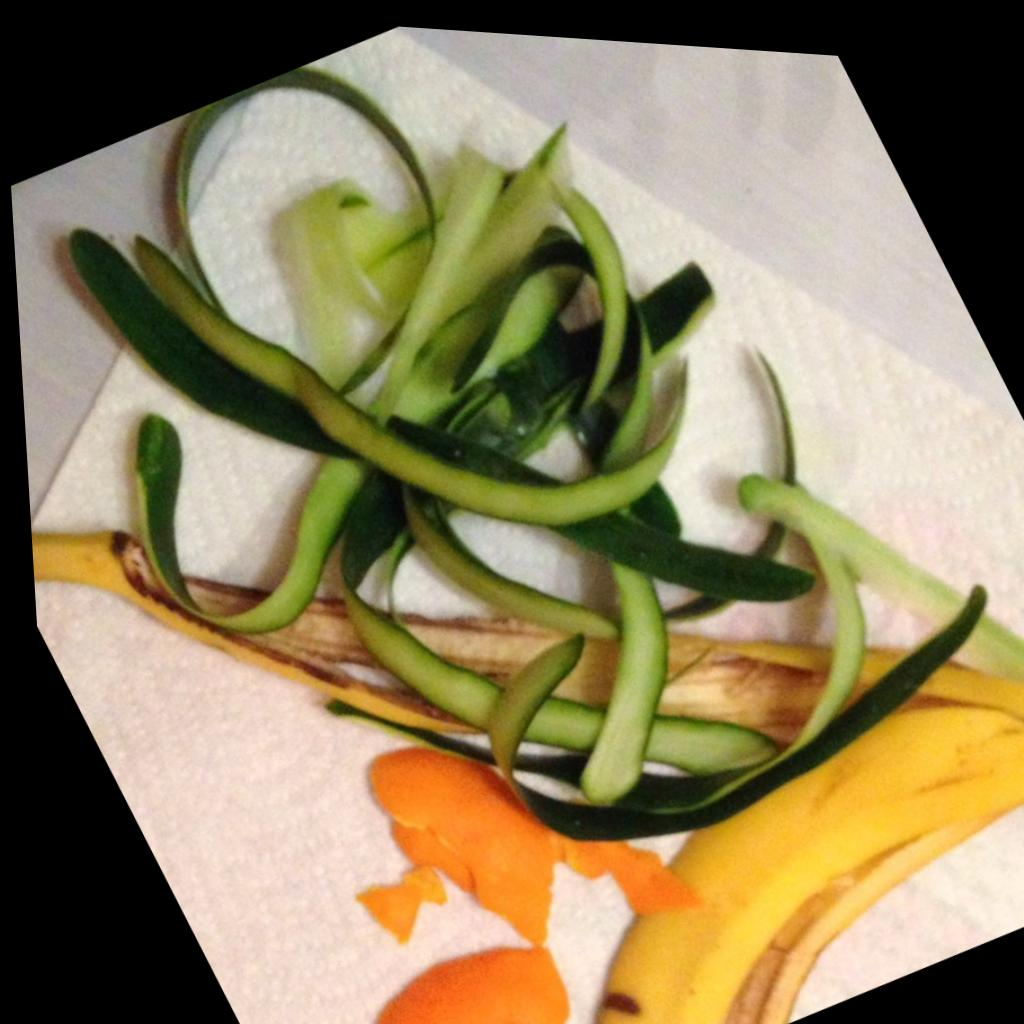organic: (0, 0, 1023, 1023), (599, 667, 1023, 1023), (360, 748, 602, 944), (377, 947, 568, 1023), (554, 833, 698, 913), (356, 867, 446, 942)
